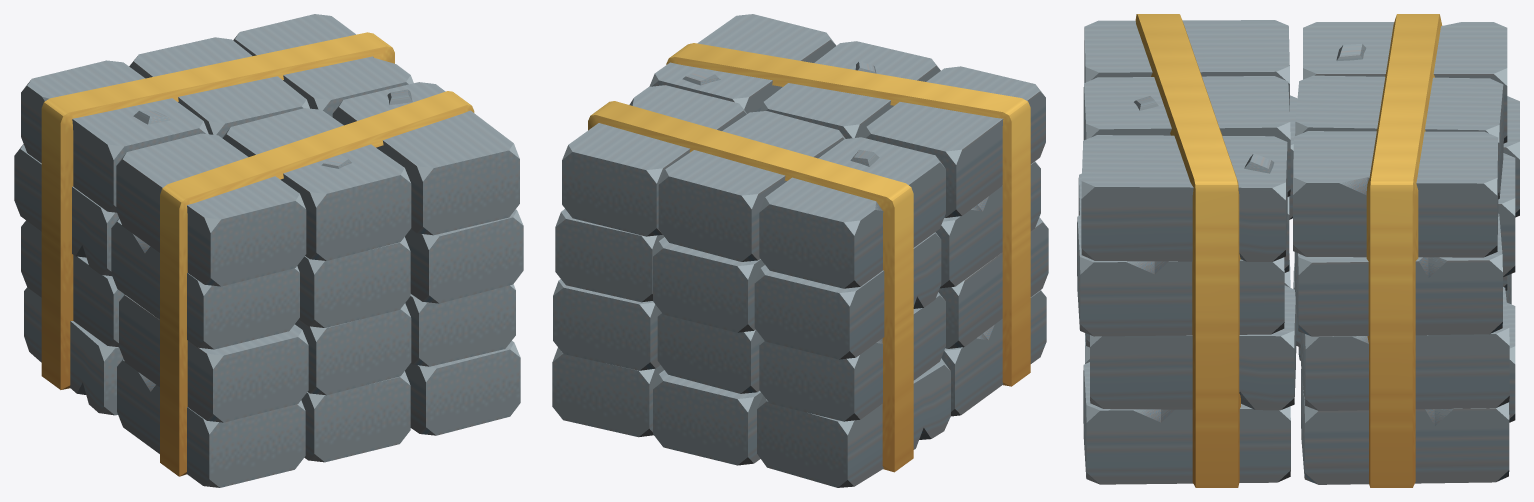
Rendered from Stone_Bricks_Stack_Large.gltf.
3 views of the same model, side by side, from view 1: azimuth 30°, elevation 25°; view 2: azimuth 150°, elevation 25°; view 3: azimuth 270°, elevation 25° (orthographic). The views are drawn at different scales.
Parts seen in each view (by area): view 1: Stone_Bricks_Stack_Large; view 2: Stone_Bricks_Stack_Large; view 3: Stone_Bricks_Stack_Large.
Boxes of the visible parts, x1,y1,x2,y2 form: Stone_Bricks_Stack_Large: (14, 14, 523, 487); Stone_Bricks_Stack_Large: (552, 14, 1048, 487); Stone_Bricks_Stack_Large: (1077, 14, 1519, 487).
Size of the model in its own units: 1.51 by 1.23 by 1.63.
1 material, 1 textured.
